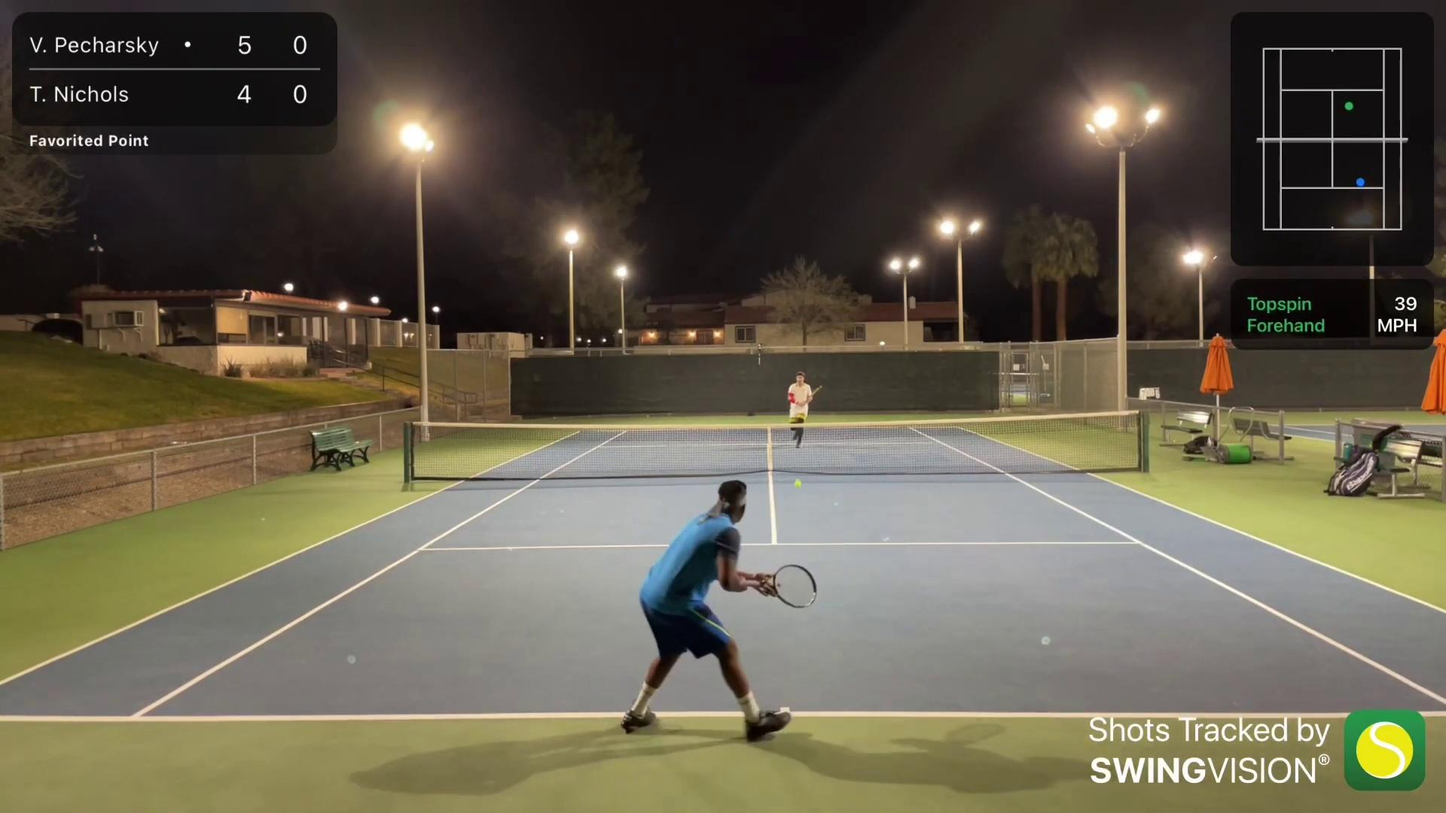ball: (791, 481, 802, 489)
